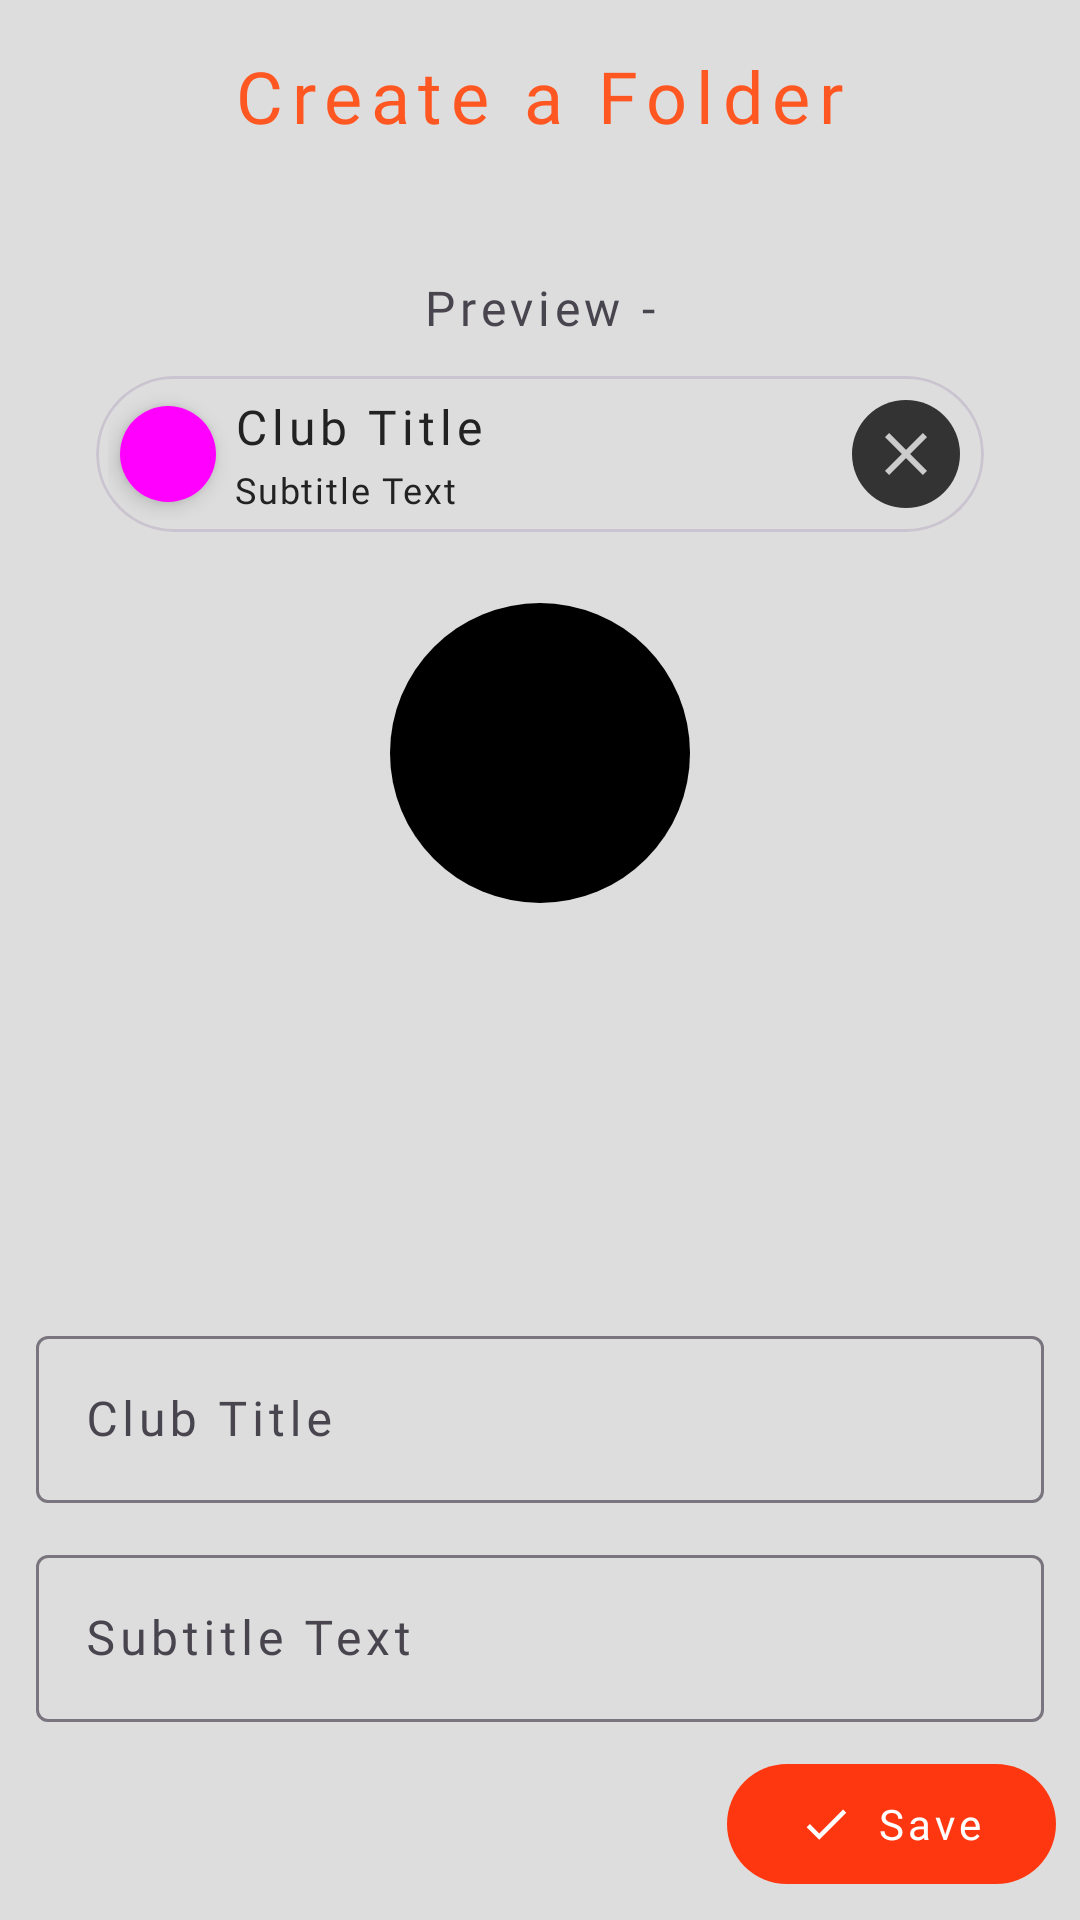

Icon click points for this 1080×1920 phone screenshot, format [x,y]:
close: [906,454]
